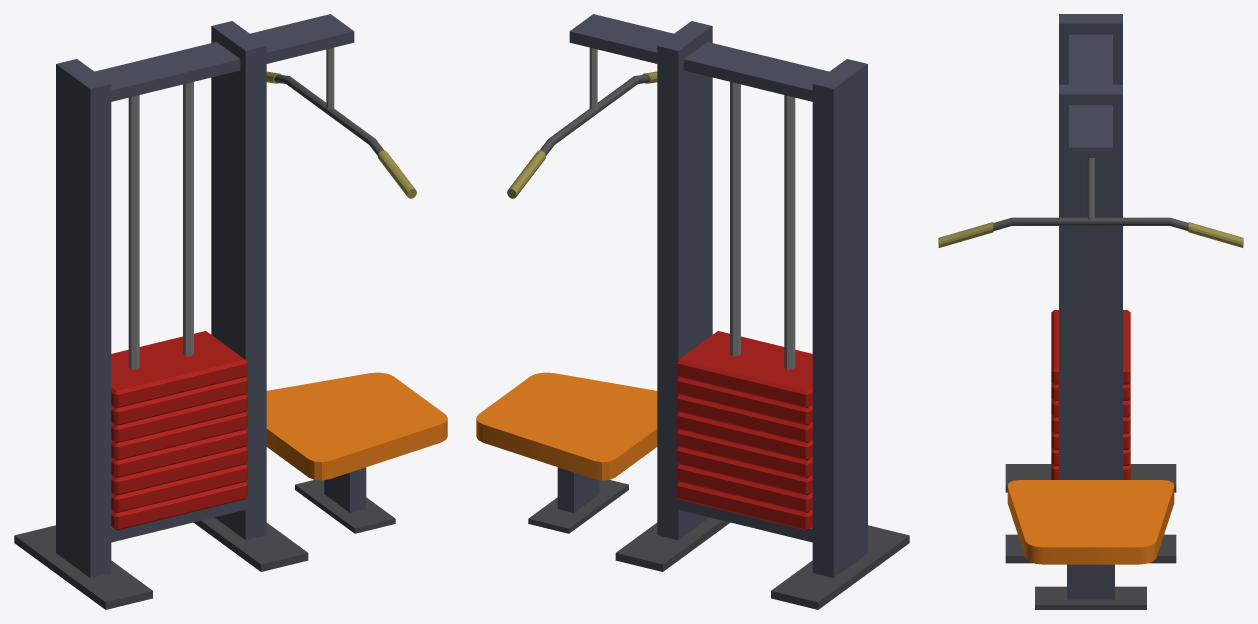
Rendered from lat_pulldown.fbx.
The picture shows the model from 3 angles, left to right: view 1: azimuth 30°, elevation 25°; view 2: azimuth 150°, elevation 25°; view 3: azimuth 270°, elevation 25°; orthographic projection. The views are drawn at different scales.
Parts seen in each view (by area): view 1: Lat_pulldown; view 2: Lat_pulldown; view 3: Lat_pulldown.
Part boxes in pixels (x1,y1,x2,y2): Lat_pulldown: (14,14,447,609); Lat_pulldown: (476,14,909,609); Lat_pulldown: (938,14,1243,609).
Size of the model in its own units: 5.93 by 7.82 by 4.68.
